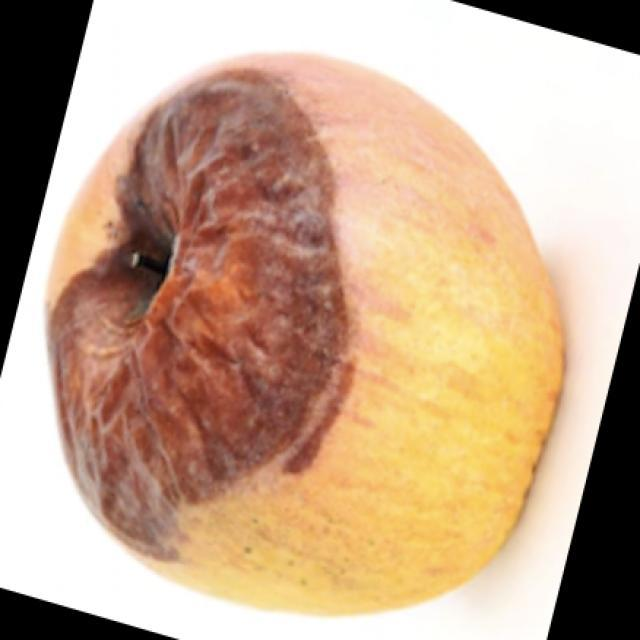Rotten: (58, 54, 535, 634)
